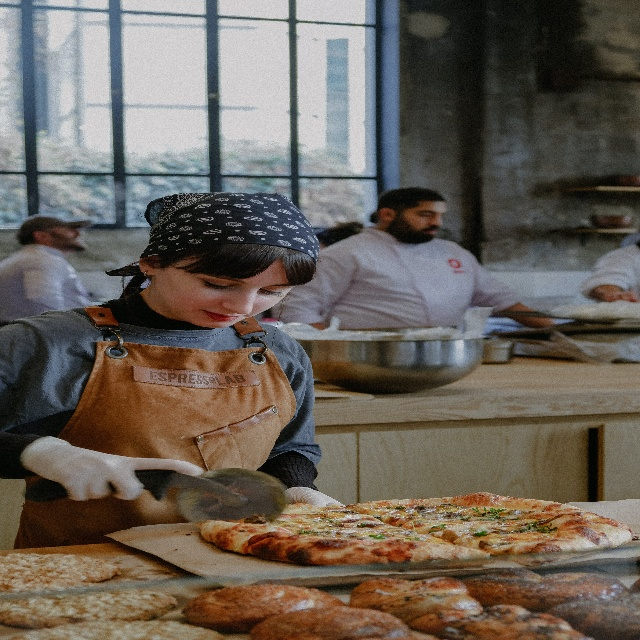Guantes: (18, 434, 205, 500), (261, 452, 347, 516)
